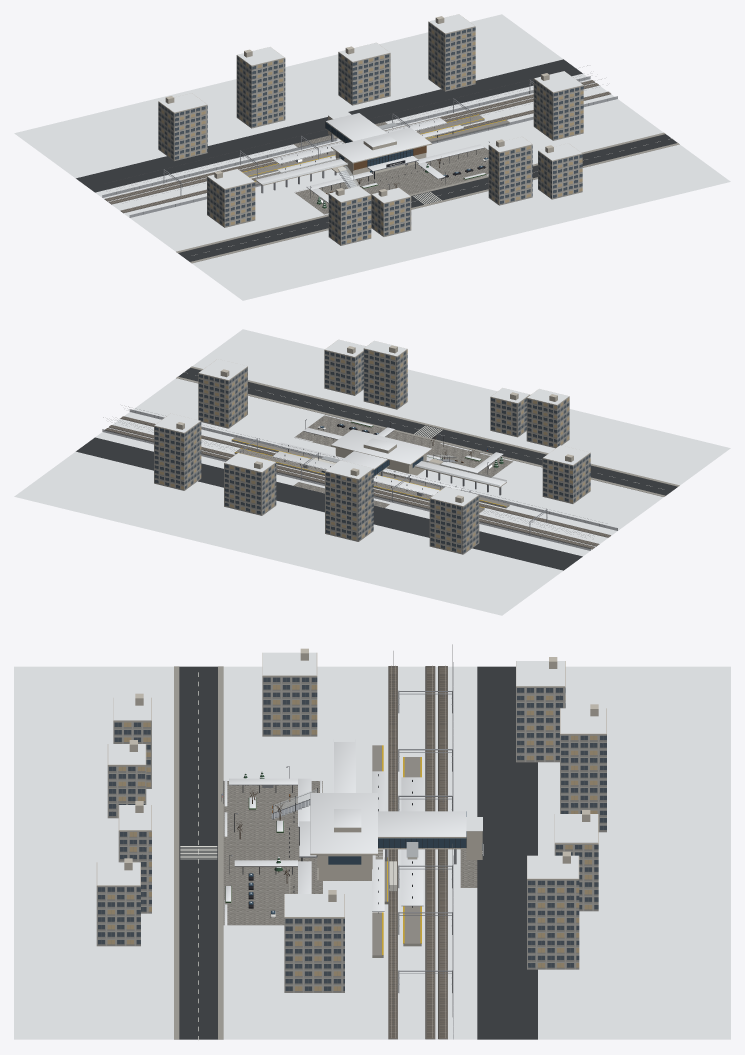
Rendered from xiji-station_v2_3_candidate.glb.
3 renders of one model, top to bottom at view 1: azimuth 30°, elevation 25°; view 2: azimuth 150°, elevation 25°; view 3: azimuth 270°, elevation 25°, orthographic. The views are drawn at different scales.
Parts seen in each view (by area): view 1: plane, plane.003, plane.001, pave, apt.020, apt.008, apt.028, apt.024, apt.016, apt.036, box.118, apt (+28 smaller); view 2: plane, plane.003, plane.001, pave, apt.022, apt.010, apt.030, apt.018, apt.026, apt.038, box.118, apt.002 (+27 smaller); view 3: plane, plane.003, plane.001, pave, apt.029, apt.037, apt.021, box.451, box.118, apt.017, apt.033, box.772 (+26 smaller).
Part boxes in pixels (x1=…): plane: x1=14, y1=14, x2=730, y2=300; plane.003: x1=76, y1=59, x2=582, y2=192; plane.001: x1=178, y1=134, x2=677, y2=261; pave: x1=294, y1=147, x2=488, y2=215; apt.020: x1=251, y1=58, x2=285, y2=128; apt.008: x1=499, y1=145, x2=532, y2=205; apt.028: x1=445, y1=27, x2=475, y2=91; apt.024: x1=352, y1=53, x2=390, y2=105; apt.016: x1=174, y1=105, x2=207, y2=160; apt.036: x1=553, y1=85, x2=583, y2=140; box.118: x1=331, y1=127, x2=431, y2=162; apt: x1=341, y1=195, x2=371, y2=245; plane: x1=14, y1=329, x2=730, y2=615; plane.003: x1=76, y1=437, x2=582, y2=570; plane.001: x1=178, y1=368, x2=677, y2=495; pave: x1=294, y1=414, x2=513, y2=483; apt.022: x1=325, y1=471, x2=358, y2=541; apt.010: x1=363, y1=349, x2=397, y2=409; apt.030: x1=154, y1=426, x2=184, y2=490; apt.018: x1=429, y1=499, x2=463, y2=554; apt.026: x1=224, y1=463, x2=261, y2=515; apt.038: x1=198, y1=373, x2=228, y2=428; box.118: x1=331, y1=429, x2=431, y2=464; apt.002: x1=526, y1=398, x2=557, y2=448; plane: x1=14, y1=666, x2=730, y2=1039; plane.003: x1=477, y1=666, x2=537, y2=1039; plane.001: x1=179, y1=666, x2=217, y2=1039; pave: x1=223, y1=781, x2=322, y2=925; apt.029: x1=527, y1=879, x2=579, y2=969; apt.037: x1=284, y1=918, x2=344, y2=992; apt.021: x1=560, y1=734, x2=606, y2=832; box.451: x1=425, y1=666, x2=435, y2=1039; box.118: x1=310, y1=793, x2=377, y2=853; apt.017: x1=516, y1=687, x2=565, y2=762; apt.033: x1=262, y1=676, x2=317, y2=736; box.772: x1=438, y1=666, x2=447, y2=1039.
Bounding box in the file's own units: 321 × 42.31 × 260.
Materials: 39 (4 with a texture image).
